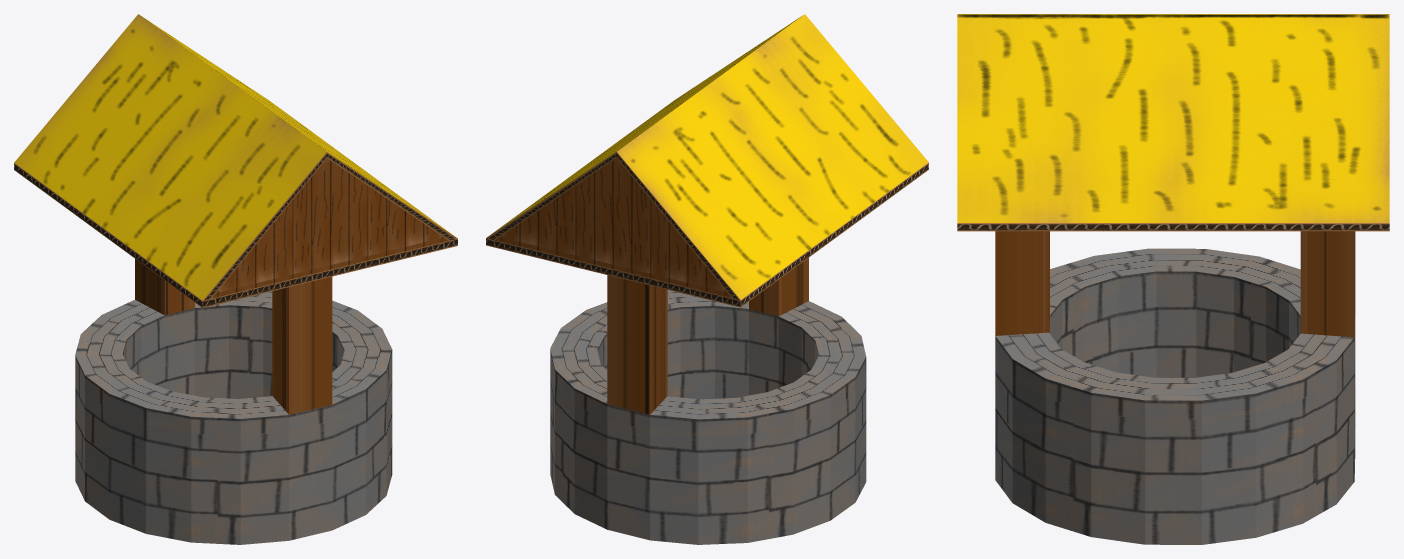
The model's file is Well.fbx.
3 views of the same model, side by side, from view 1: azimuth 30°, elevation 25°; view 2: azimuth 150°, elevation 25°; view 3: azimuth 270°, elevation 25° (orthographic). The views are drawn at different scales.
Parts seen in each view (by area): view 1: pPipe1, pCube31; view 2: pPipe1, pCube31; view 3: pPipe1, pCube31.
Part boxes in pixels (x1,y1,x2,y2): pPipe1: [75, 259, 392, 544]; pCube31: [14, 14, 457, 307]; pPipe1: [550, 258, 866, 544]; pCube31: [486, 14, 928, 307]; pPipe1: [995, 231, 1355, 544]; pCube31: [957, 14, 1389, 231].
Size of the model in its own units: 1.97 by 2.74 by 2.37.
